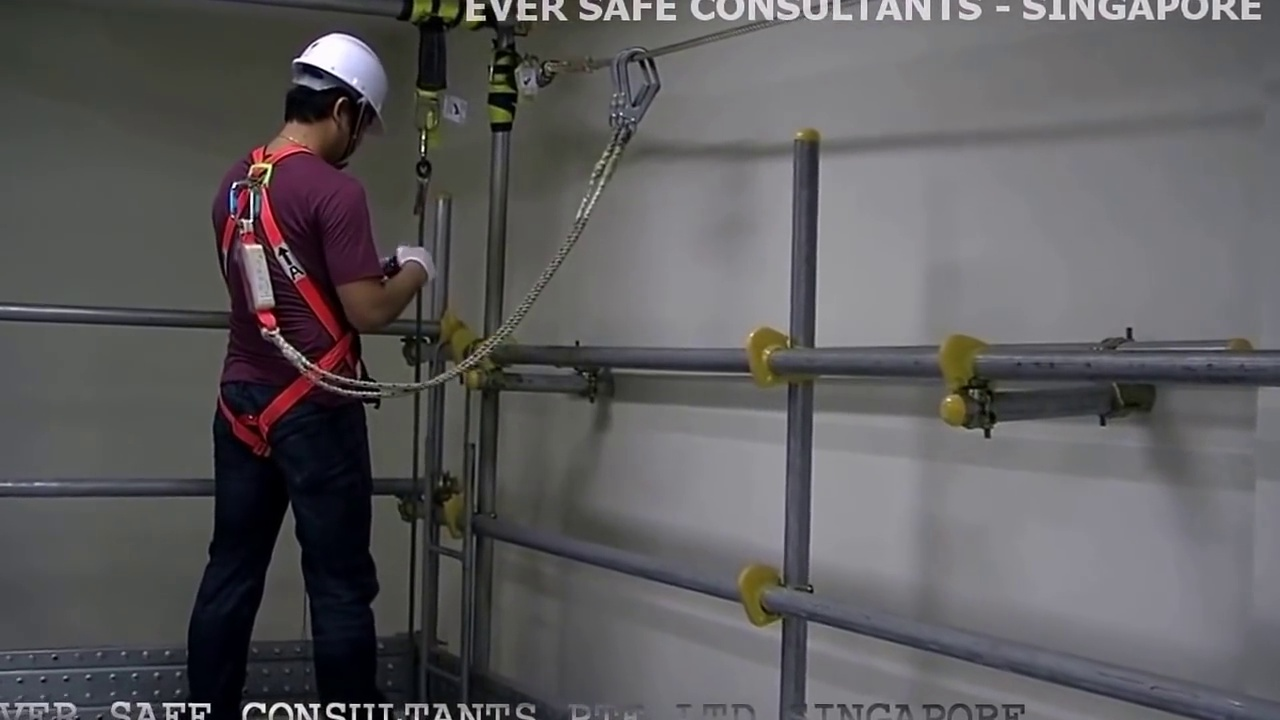harness: (210, 161, 336, 461)
helmet: (287, 30, 386, 123)
hook: (594, 44, 663, 131)
leash: (437, 151, 626, 406)
